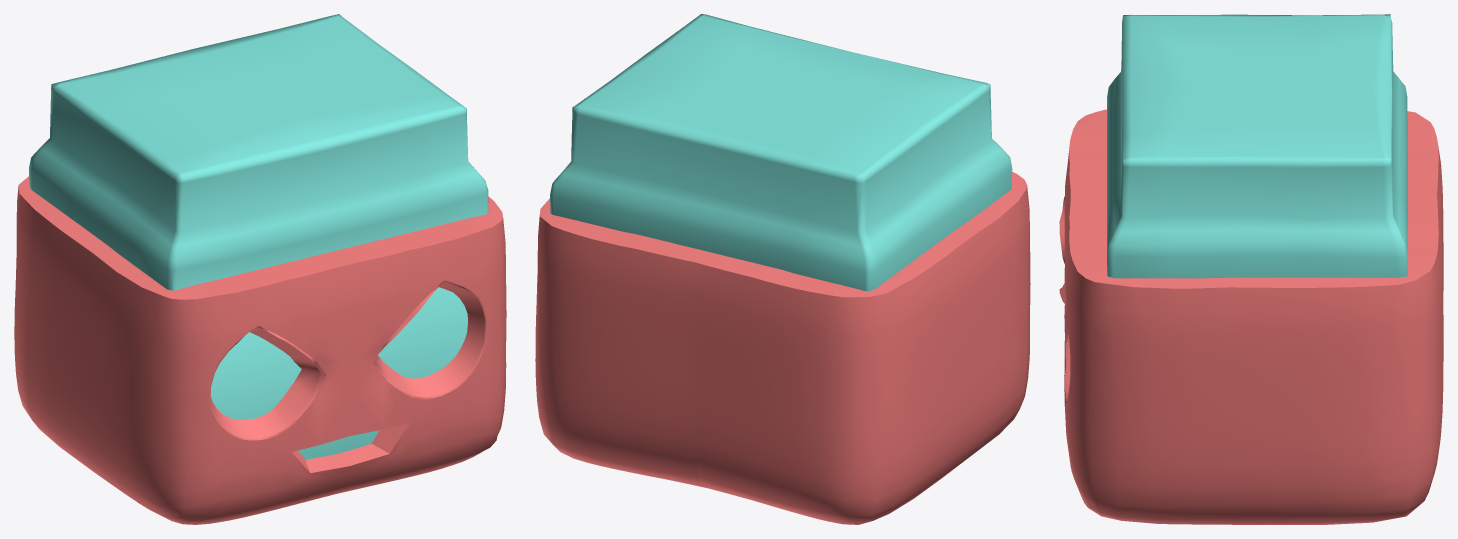
File: Enemy_Head_No_Cap.fbx
3 views of the same model, side by side, from view 1: azimuth 30°, elevation 25°; view 2: azimuth 150°, elevation 25°; view 3: azimuth 270°, elevation 25° (orthographic). The views are drawn at different scales.
Visible parts, largest first — view 1: ENemyHeaad; view 2: ENemyHeaad; view 3: ENemyHeaad.
Part boxes in pixels (bbox=[...]): ENemyHeaad: bbox=[14, 14, 506, 524]; ENemyHeaad: bbox=[535, 14, 1030, 524]; ENemyHeaad: bbox=[1059, 14, 1443, 524].
Size of the model in its own units: 0.5597 by 0.5154 by 0.4837.
